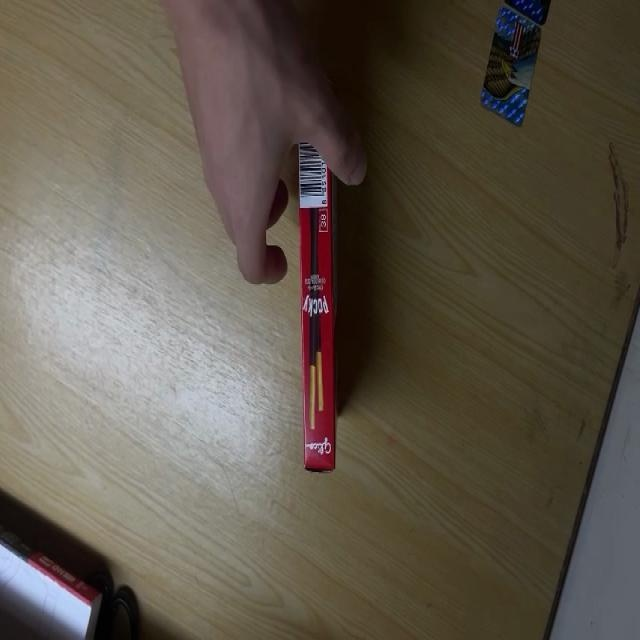Pocky: (298, 58, 336, 478)
